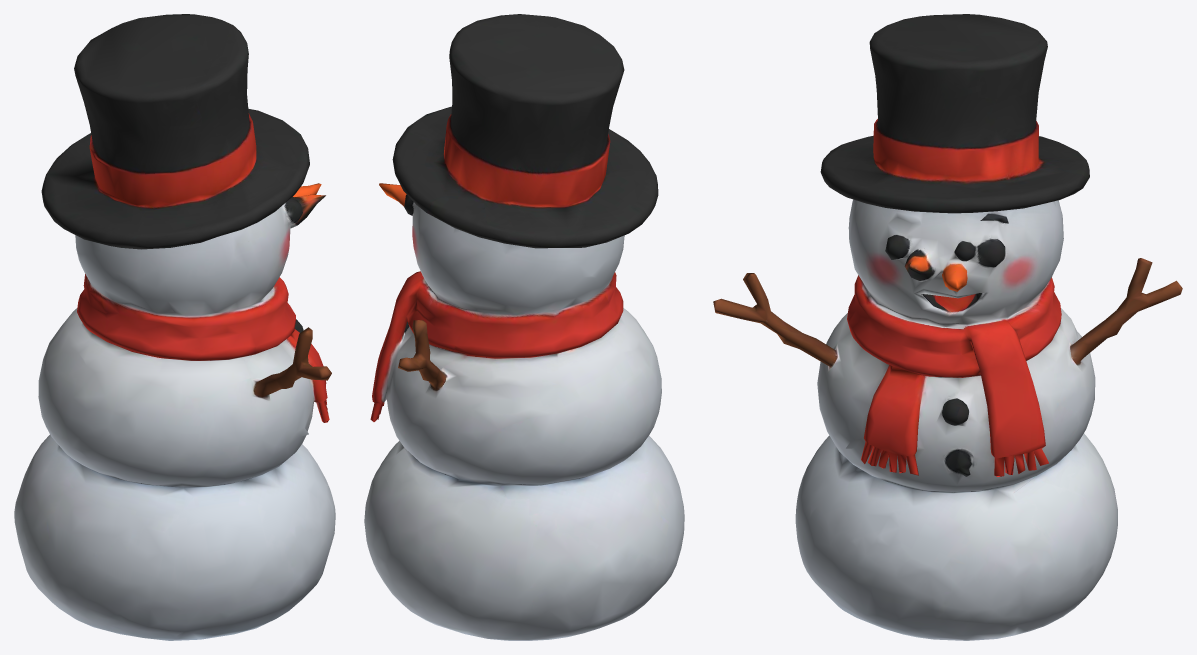
Rendered from snowman.glb.
3 views of the same model, side by side, from view 1: azimuth 30°, elevation 25°; view 2: azimuth 150°, elevation 25°; view 3: azimuth 270°, elevation 25° (orthographic).
Visible parts, largest first — view 1: tripo_node_91624ca8-6924-4973-a35f-0d70886f0e28; view 2: tripo_node_91624ca8-6924-4973-a35f-0d70886f0e28; view 3: tripo_node_91624ca8-6924-4973-a35f-0d70886f0e28.
Part boxes in pixels (x1,y1,x2,y2): tripo_node_91624ca8-6924-4973-a35f-0d70886f0e28: (14, 14, 335, 640); tripo_node_91624ca8-6924-4973-a35f-0d70886f0e28: (364, 14, 684, 640); tripo_node_91624ca8-6924-4973-a35f-0d70886f0e28: (713, 14, 1182, 640).
Size of the model in its own units: 0.1626 by 0.3 by 0.2308.
Materials: 1 (1 with a texture image).
